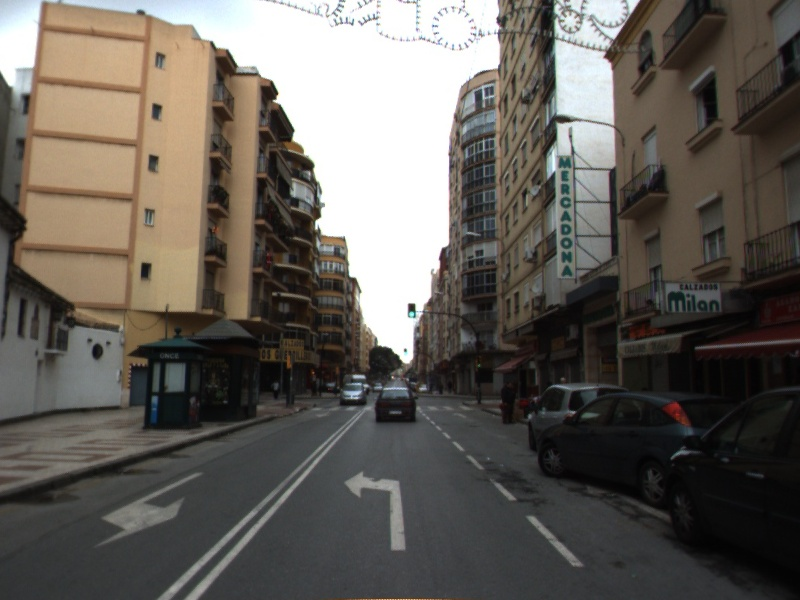LEFT: (343, 469, 407, 552)
